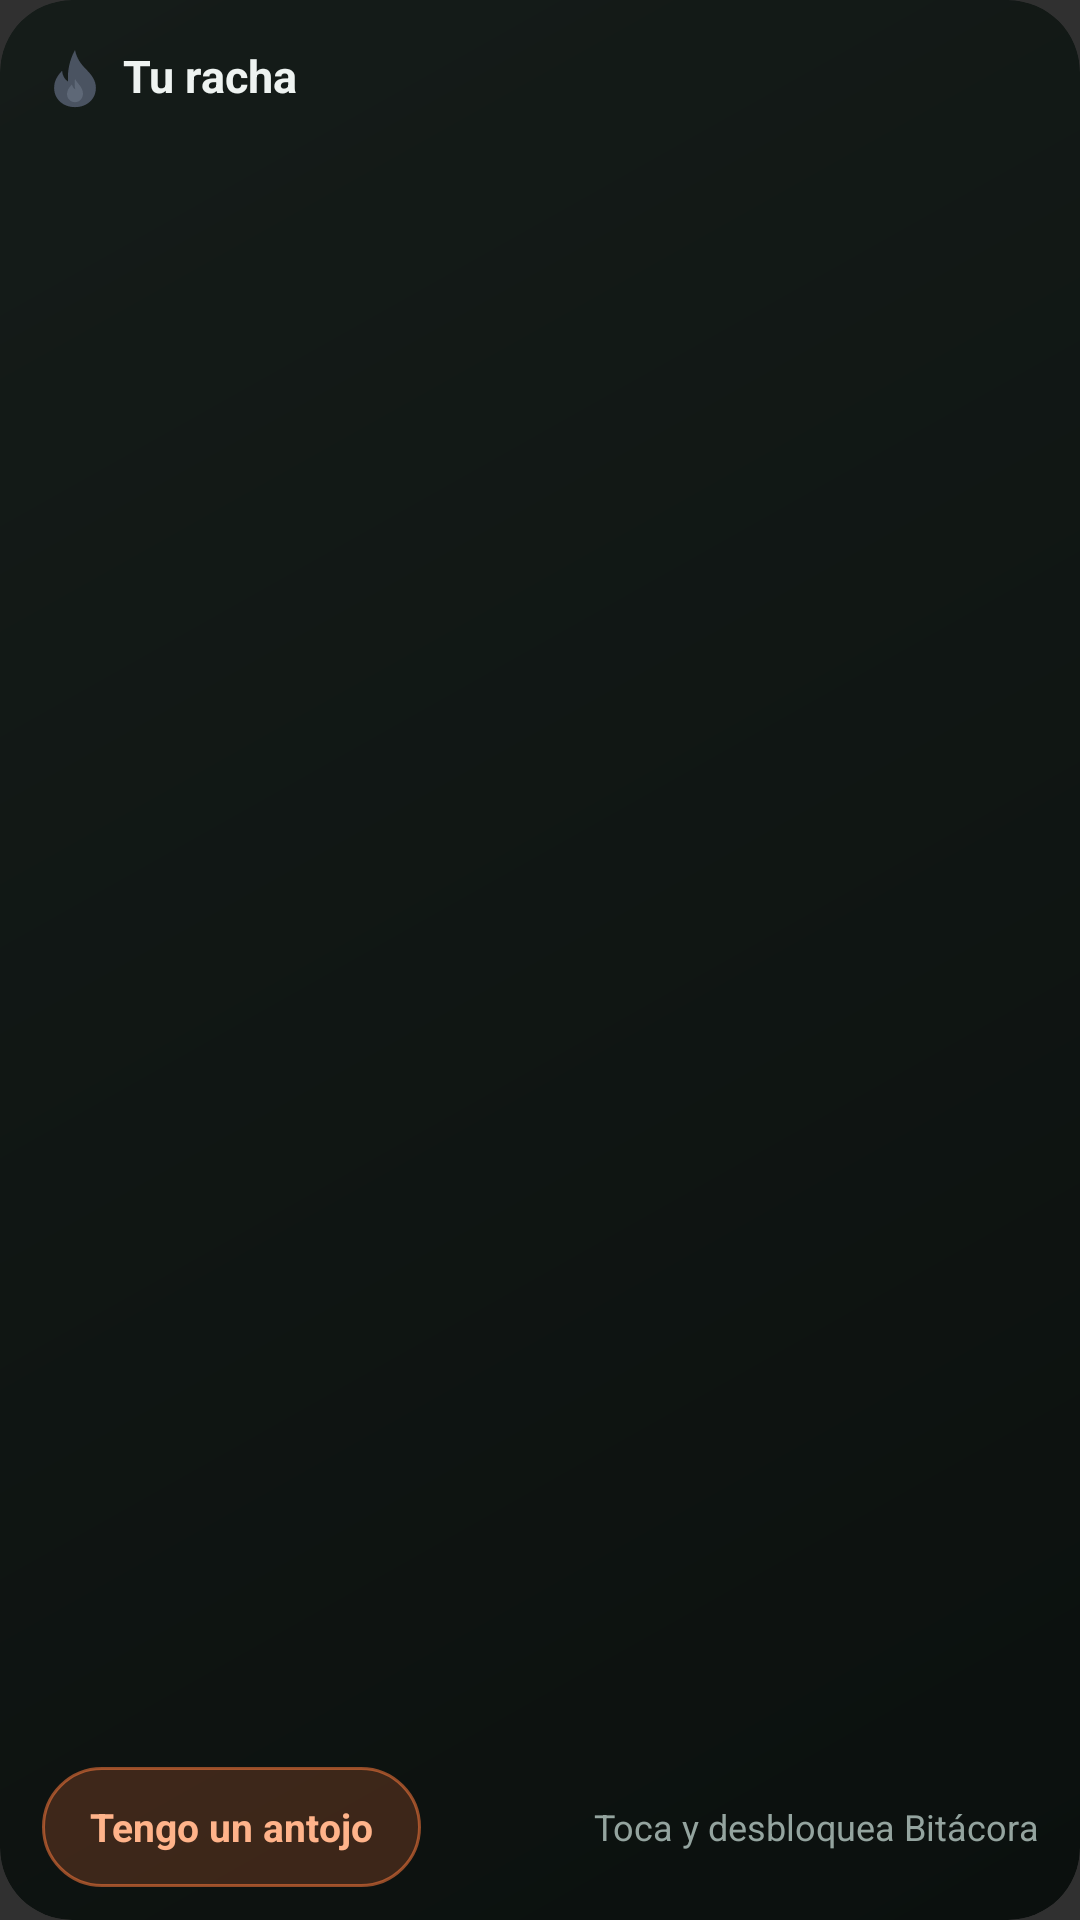

Named icons in this screenshot (1080*1920) and their centers, point (x, y):
flame off: point (75, 79)
